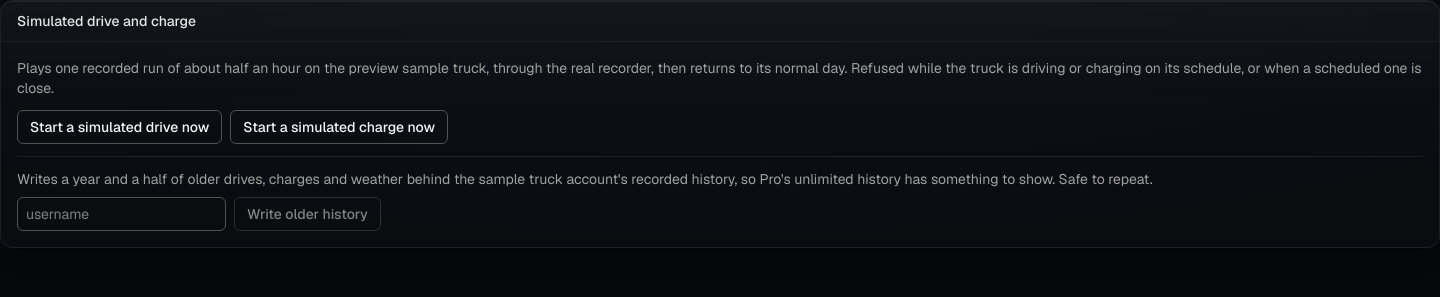
Test: the preview's simulated drive and charge card › starts a charge and shows the run, with both buttons off while it lasts
This screenshot has width=1440, height=297.
Click the button "Start a simulated charge now".
click(339, 127)  # box [230,110,448,144]
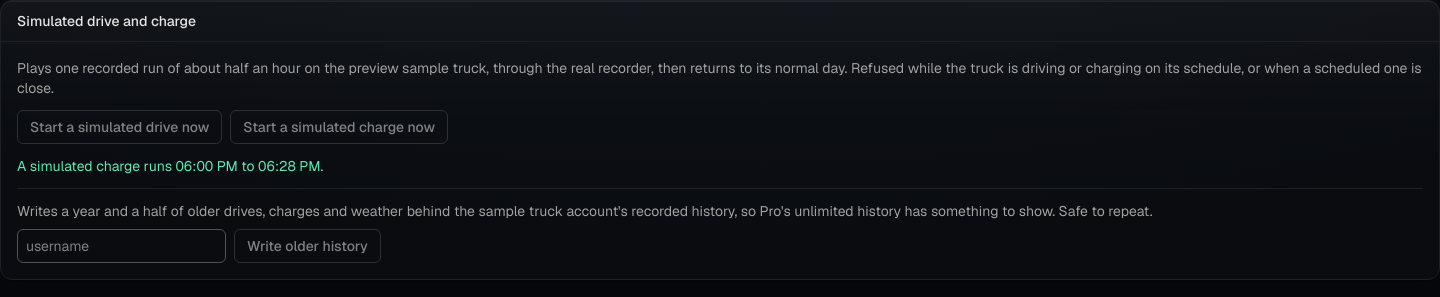
Check: the text "A simulated charge runs 06:00 PM to 06:28 PM." is shown, box [17,157,323,175]
Check: the button "Start a simulated drive now" is disabled, box [17,110,222,144]
